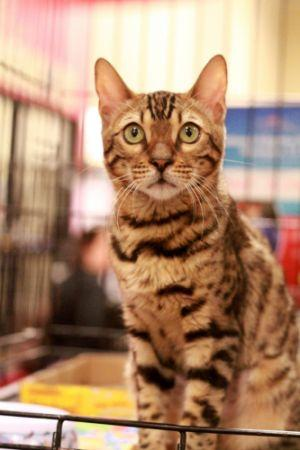bengal: (86, 48, 241, 211)
